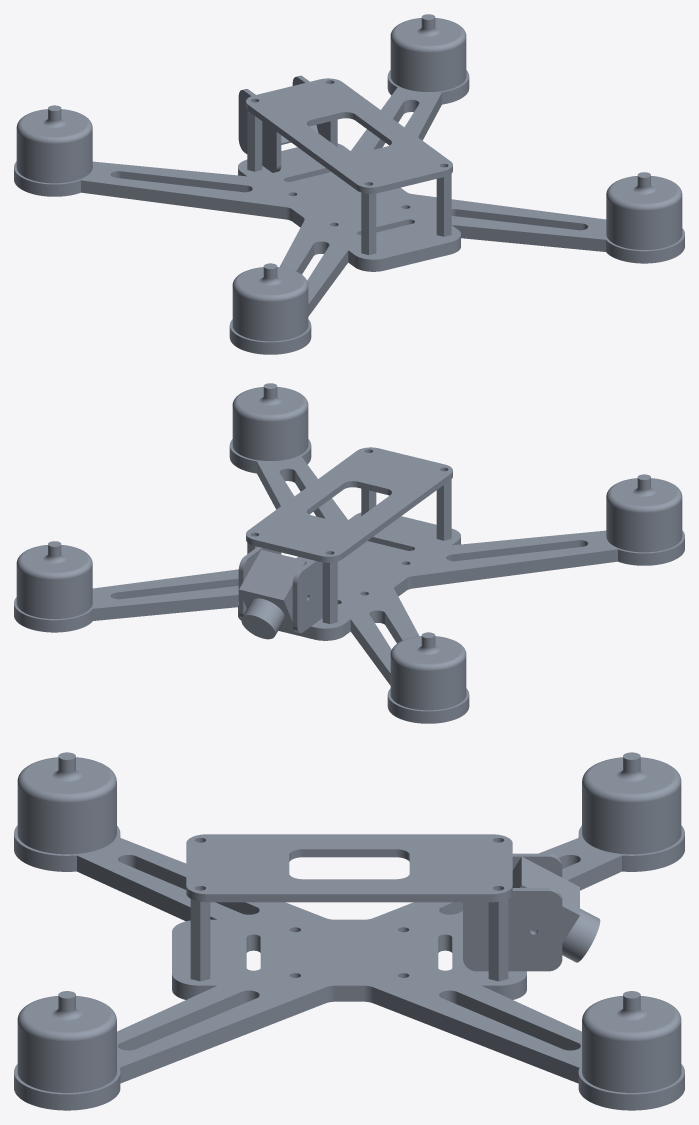
The model's file is step-7.glb.
3 views of the same model, one above another, from view 1: azimuth 30°, elevation 25°; view 2: azimuth 150°, elevation 25°; view 3: azimuth 270°, elevation 25° (orthographic). The views are drawn at different scales.
Parts seen in each view (by area): view 1: face_3462520fd5905184c287, face_2dc81ff9661facc9e8aa, face_36e58374e48171e35e40, face_32027739f2f129672f03, face_31ffd51f5efec1525d2b, face_ac9ffa45d98fea6fd068, face_1eca755a6b4b61118afb, face_26f04b5ba8c4c64ad49c, face_70d6066b04f240932b9e, face_d5777ef2fef6636d525c, face_ec40bf841a2a3071e723, face_95290b2de38170c87ea0 (+13 smaller); view 2: face_3462520fd5905184c287, face_2dc81ff9661facc9e8aa, face_31ffd51f5efec1525d2b, face_ac9ffa45d98fea6fd068, face_32027739f2f129672f03, face_36e58374e48171e35e40, face_c32ef5f191d23a5f25ee, face_c13ad19ff0015702f4cf, face_328ebcda5ebc6377554e, face_70d6066b04f240932b9e, face_95290b2de38170c87ea0, face_50ae9543d9942c10cdf6 (+16 smaller); view 3: face_3462520fd5905184c287, face_2dc81ff9661facc9e8aa, face_b6516b5439a562f0af18, face_ac9ffa45d98fea6fd068, face_36e58374e48171e35e40, face_31ffd51f5efec1525d2b, face_32027739f2f129672f03, face_104e0ba5e9348109e449, face_97546d7d8c22b6db1eca, face_ad58074464e4a1f33e2f, face_d5777ef2fef6636d525c, face_ec40bf841a2a3071e723 (+22 smaller).
Boxes of the visible parts, <box> form: face_3462520fd5905184c287: <box>14,70,684,342</box>; face_2dc81ff9661facc9e8aa: <box>246,78,452,187</box>; face_36e58374e48171e35e40: <box>16,129,92,183</box>; face_32027739f2f129672f03: <box>390,39,466,91</box>; face_31ffd51f5efec1525d2b: <box>606,196,682,249</box>; face_ac9ffa45d98fea6fd068: <box>232,288,308,341</box>; face_1eca755a6b4b61118afb: <box>81,180,286,219</box>; face_26f04b5ba8c4c64ad49c: <box>452,225,605,251</box>; face_70d6066b04f240932b9e: <box>238,90,276,172</box>; face_d5777ef2fef6636d525c: <box>611,176,676,203</box>; face_ec40bf841a2a3071e723: <box>238,267,302,294</box>; face_95290b2de38170c87ea0: <box>396,18,460,45</box>; face_3462520fd5905184c287: <box>14,439,684,711</box>; face_2dc81ff9661facc9e8aa: <box>246,447,452,556</box>; face_31ffd51f5efec1525d2b: <box>232,408,308,460</box>; face_ac9ffa45d98fea6fd068: <box>606,498,682,552</box>; face_32027739f2f129672f03: <box>16,565,92,618</box>; face_36e58374e48171e35e40: <box>390,657,466,710</box>; face_c32ef5f191d23a5f25ee: <box>412,549,617,588</box>; face_c13ad19ff0015702f4cf: <box>239,550,305,600</box>; face_328ebcda5ebc6377554e: <box>93,595,238,620</box>; face_70d6066b04f240932b9e: <box>297,561,322,633</box>; face_95290b2de38170c87ea0: <box>22,545,87,572</box>; face_50ae9543d9942c10cdf6: <box>396,636,460,663</box>; face_3462520fd5905184c287: <box>14,825,684,1094</box>; face_2dc81ff9661facc9e8aa: <box>186,834,512,894</box>; face_b6516b5439a562f0af18: <box>463,891,562,971</box>; face_ac9ffa45d98fea6fd068: <box>17,783,116,854</box>; face_36e58374e48171e35e40: <box>582,783,681,854</box>; face_31ffd51f5efec1525d2b: <box>17,1021,116,1092</box>; face_32027739f2f129672f03: <box>582,1021,681,1092</box>; face_104e0ba5e9348109e449: <box>119,987,325,1083</box>; face_97546d7d8c22b6db1eca: <box>373,987,579,1083</box>; face_ad58074464e4a1f33e2f: <box>207,894,491,902</box>; face_d5777ef2fef6636d525c: <box>24,996,109,1031</box>; face_ec40bf841a2a3071e723: <box>24,758,109,793</box>.
Size of the model in its own units: 0.1891 by 0.0325 by 0.1891.
